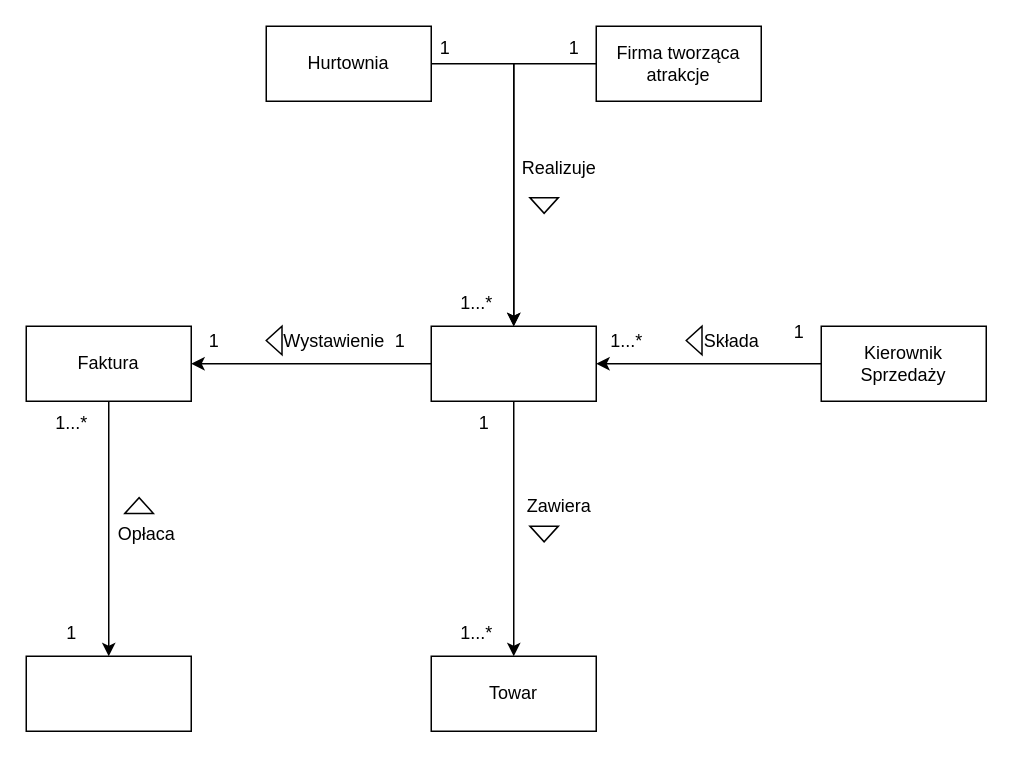
This 1013x758 diagram has some shape labels left out. Each missing label, with the box of its shape:
Księgowy: (25, 655, 191, 731)
Zamówienie: (430, 325, 596, 401)
